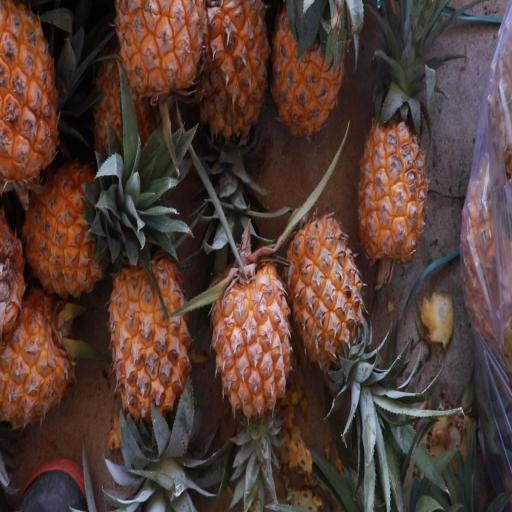Pineapple - v8 v1: (108, 244, 196, 455), (14, 160, 138, 307), (280, 213, 366, 407), (206, 249, 294, 433), (354, 83, 432, 273), (107, 0, 207, 128), (0, 0, 62, 206), (190, 0, 268, 163), (267, 4, 345, 153), (0, 285, 73, 437)
